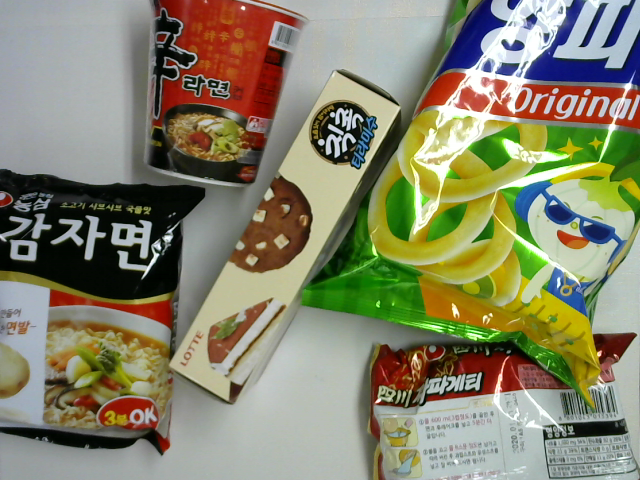Chicchok_Tiramisu: (161, 65, 405, 412)
Oninon_Ring: (299, 1, 640, 417)
Potato: (1, 167, 208, 454)
Sichuan_Chapaghetti: (358, 328, 640, 478)
Sinramen_small: (135, 1, 308, 191)
